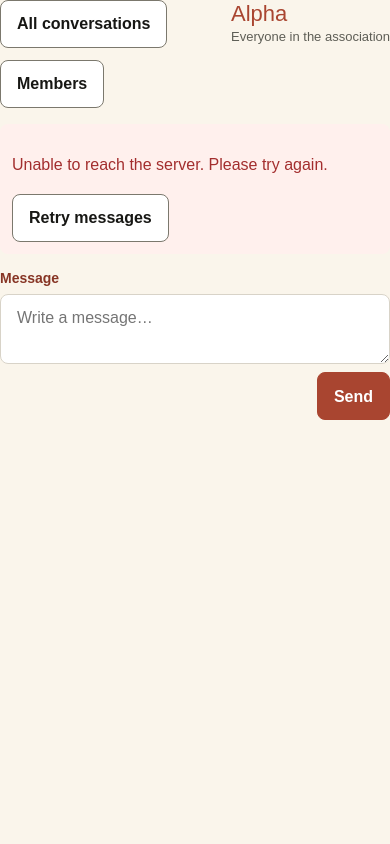
it: MessageThread polling and paging › shows a load error with retry
Expected: the message shows "Unable to reach the server", x1=12 y1=156 x2=328 y2=173
Click the button "Retry messages" at (90, 218), box x1=12 y1=194 x2=169 y2=242
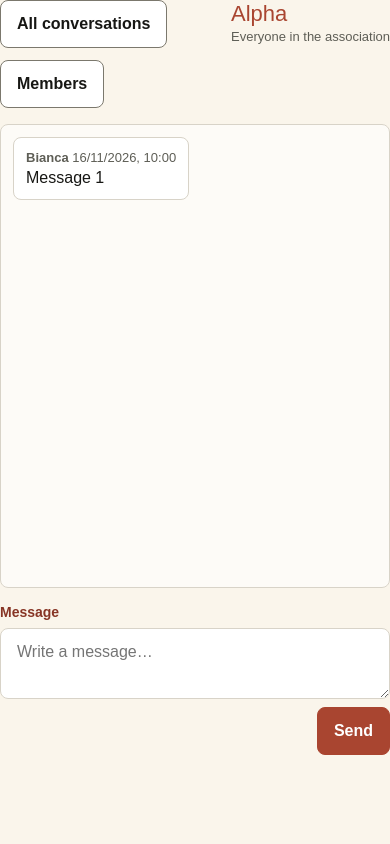
Now the text "Message 1" is shown, box x1=26 y1=169 x2=104 y2=186
